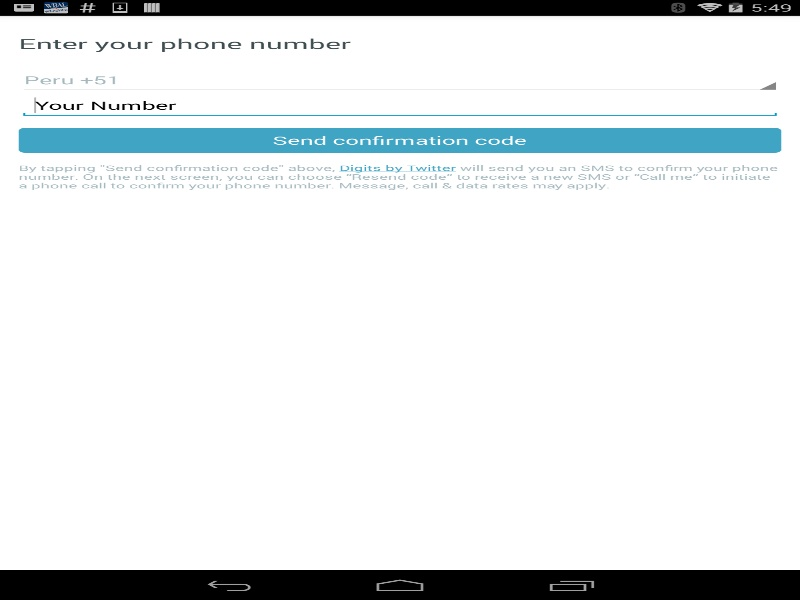Input: (18, 93, 781, 117)
